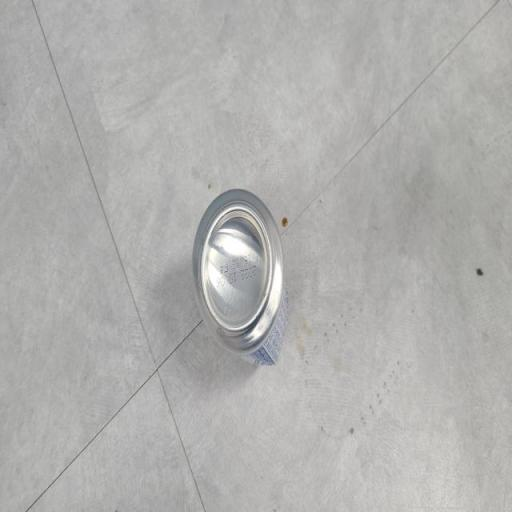metal: (169, 162, 331, 432)
